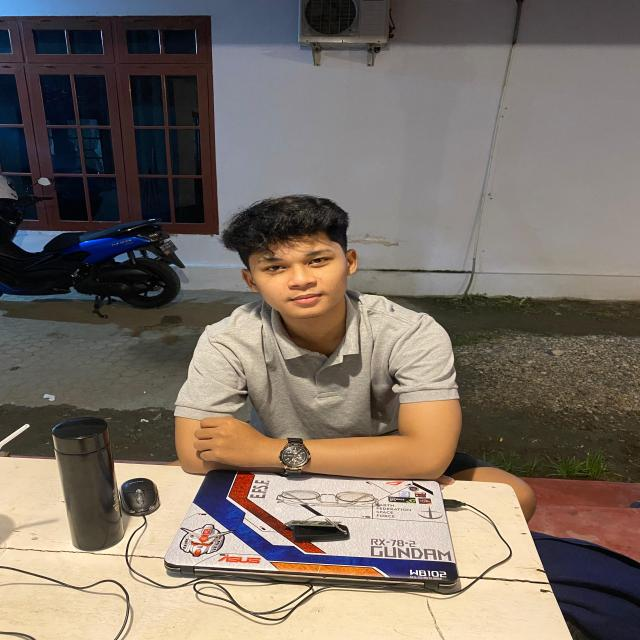nohelmet: (222, 192, 367, 321)
